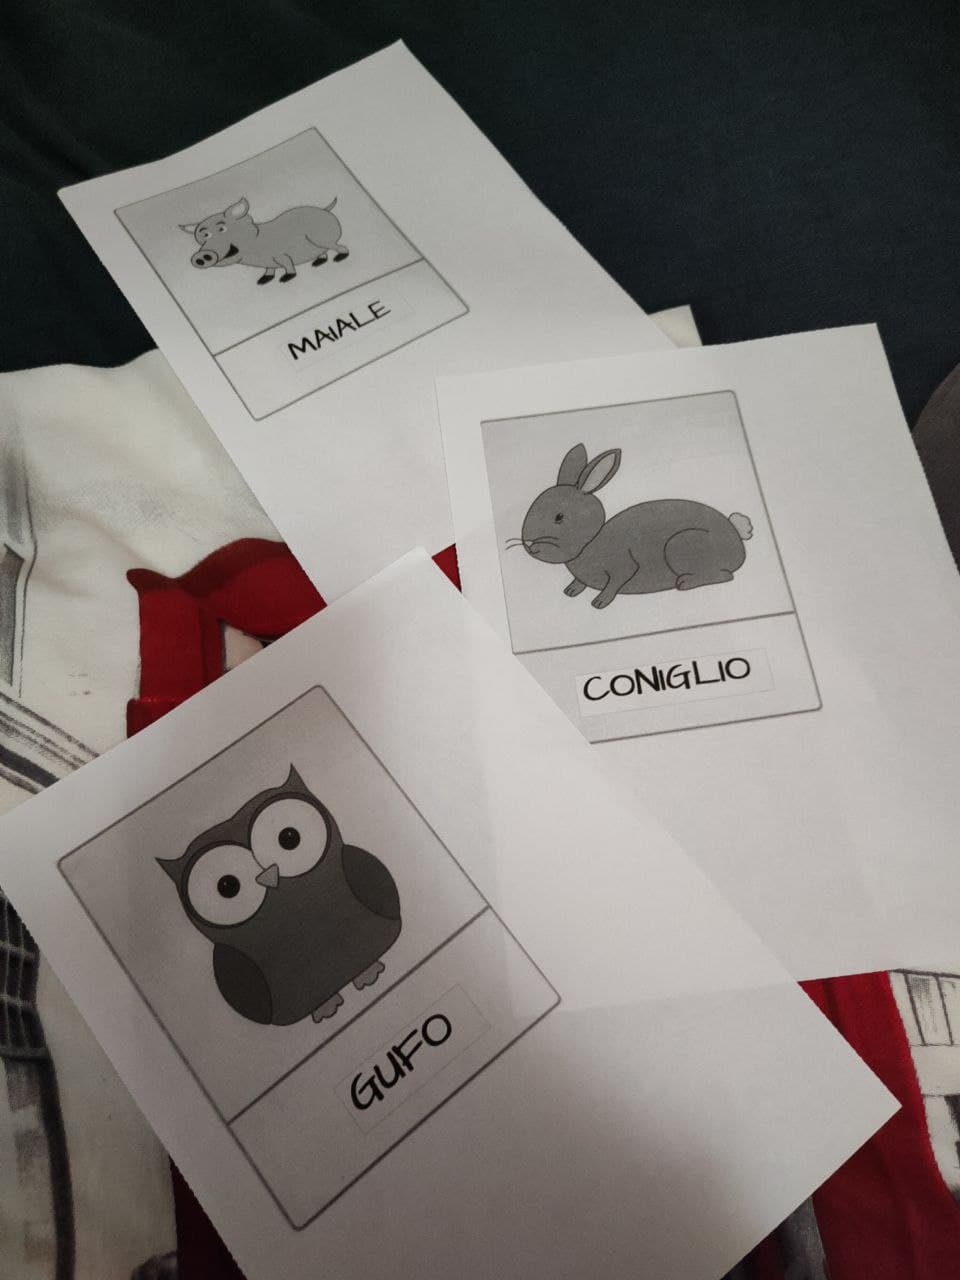coniglio: (509, 413, 796, 744)
gufo: (143, 753, 501, 1137)
maiale: (167, 161, 428, 396)
